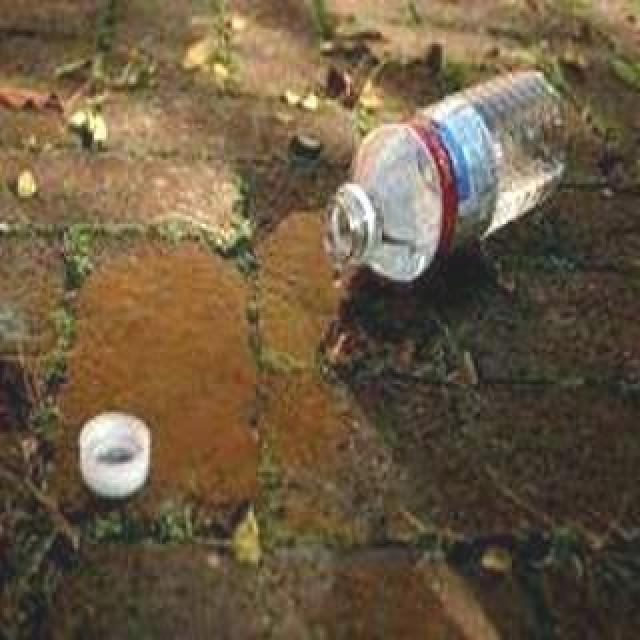Pet_Bottle: (313, 67, 575, 289)
